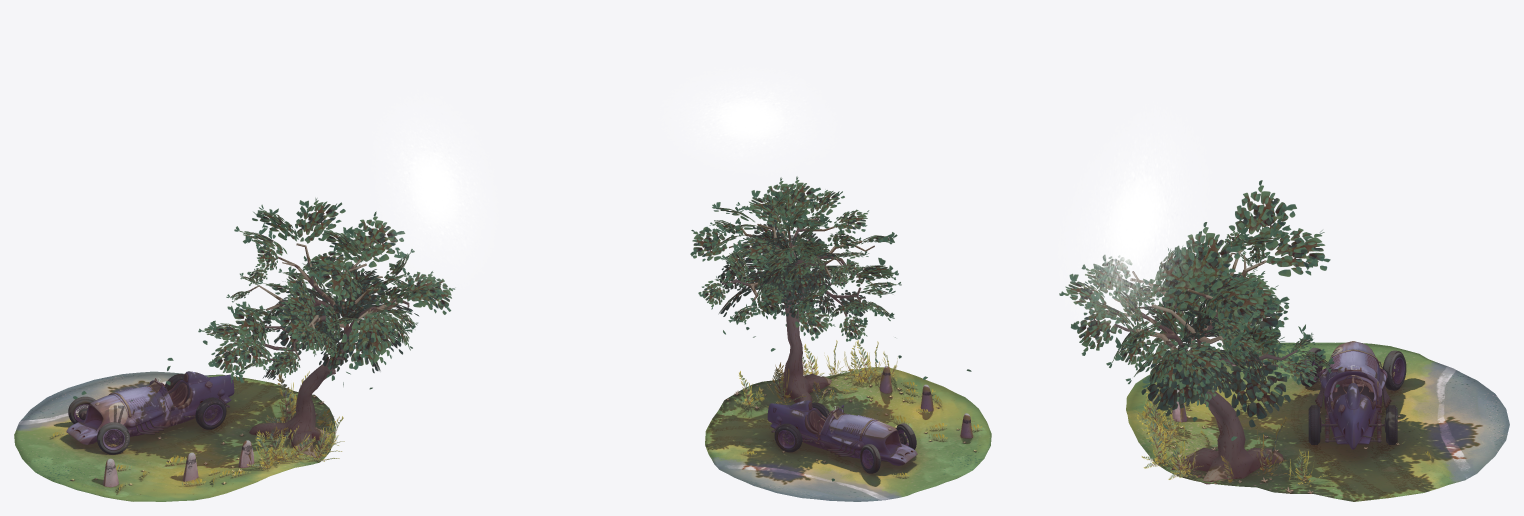
The picture shows the model from 3 angles, left to right: view 1: azimuth 30°, elevation 25°; view 2: azimuth 150°, elevation 25°; view 3: azimuth 270°, elevation 25°; orthographic projection. The views are drawn at different scales.
Visible parts, largest first — view 1: ground, veg, Plane.013, car; view 2: ground, veg, Plane.013, car; view 3: ground, veg, Plane.013, car.
Boxes of the visible parts, bbox=[...] form: ground: bbox=[14, 243, 409, 501]; veg: bbox=[51, 197, 454, 492]; Plane.013: bbox=[378, 107, 490, 274]; car: bbox=[66, 371, 234, 454]; ground: bbox=[705, 216, 991, 501]; veg: bbox=[690, 176, 982, 481]; Plane.013: bbox=[674, 72, 828, 165]; car: bbox=[767, 400, 917, 473]; ground: bbox=[1106, 245, 1509, 501]; veg: bbox=[1059, 180, 1431, 493]; Plane.013: bbox=[1071, 123, 1198, 320]; car: bbox=[1300, 341, 1406, 449].
Size of what is drawn, in the model's own units: 3.37 by 2.89 by 2.48.
4 materials, 4 textured.
